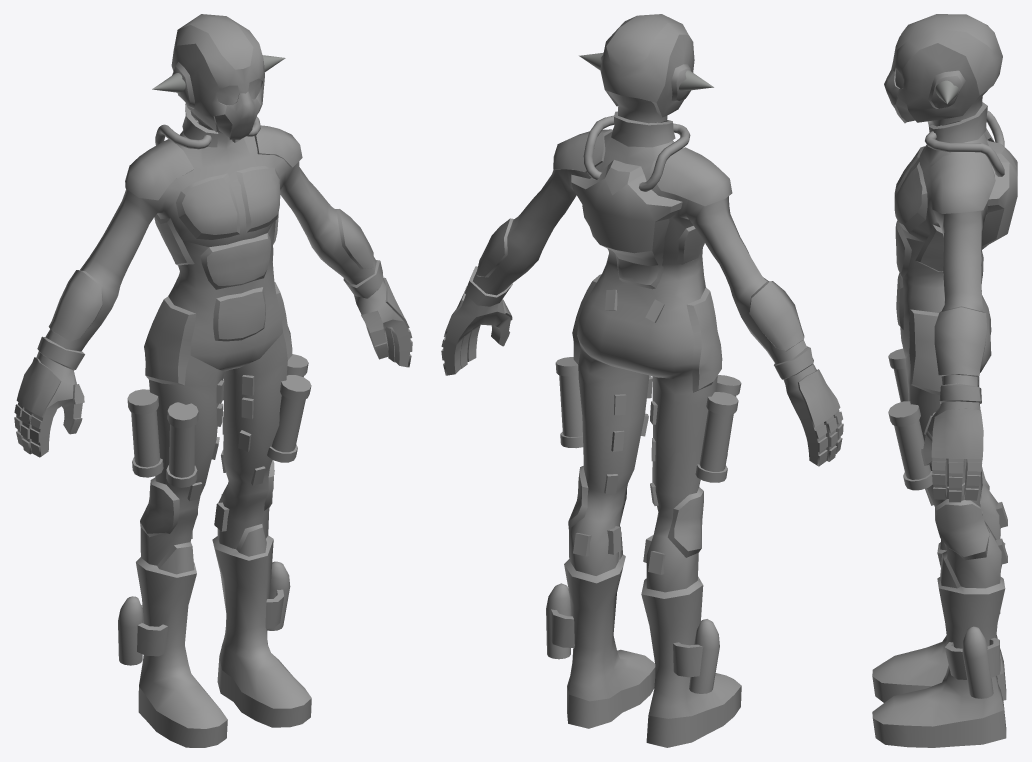
Rendered from Sci-Fi_Soldier改 1.fbx.
The picture shows the model from 3 angles, left to right: view 1: azimuth 30°, elevation 25°; view 2: azimuth 150°, elevation 25°; view 3: azimuth 270°, elevation 25°; orthographic projection.
Visible parts, largest first — view 1: node_id51; view 2: node_id51; view 3: node_id51, root.
Part boxes in pixels (bbox=[...]): node_id51: bbox=[14, 14, 412, 747]; node_id51: bbox=[441, 14, 843, 747]; node_id51: bbox=[872, 14, 1017, 747]; root: bbox=[935, 80, 958, 103].
Size of the model in its own units: 0.2959 by 0.512 by 0.0968.
Materials: 3 (2 with a texture image).
